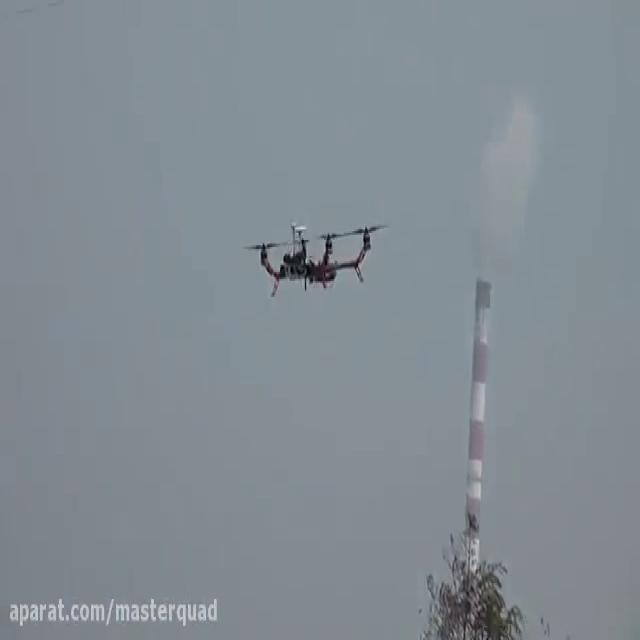drone: (235, 208, 388, 299)
